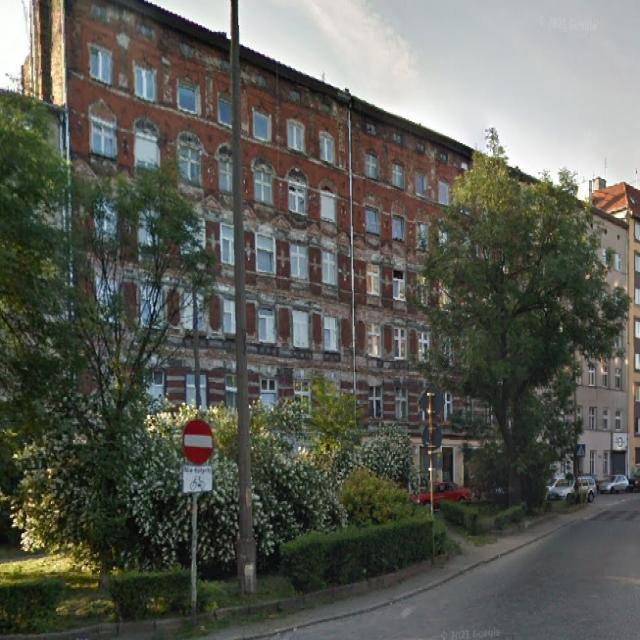Zakaz wjazdu: (182, 418, 213, 464)
